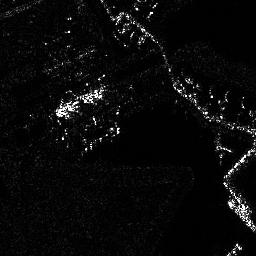ship: (227, 198, 256, 232)
